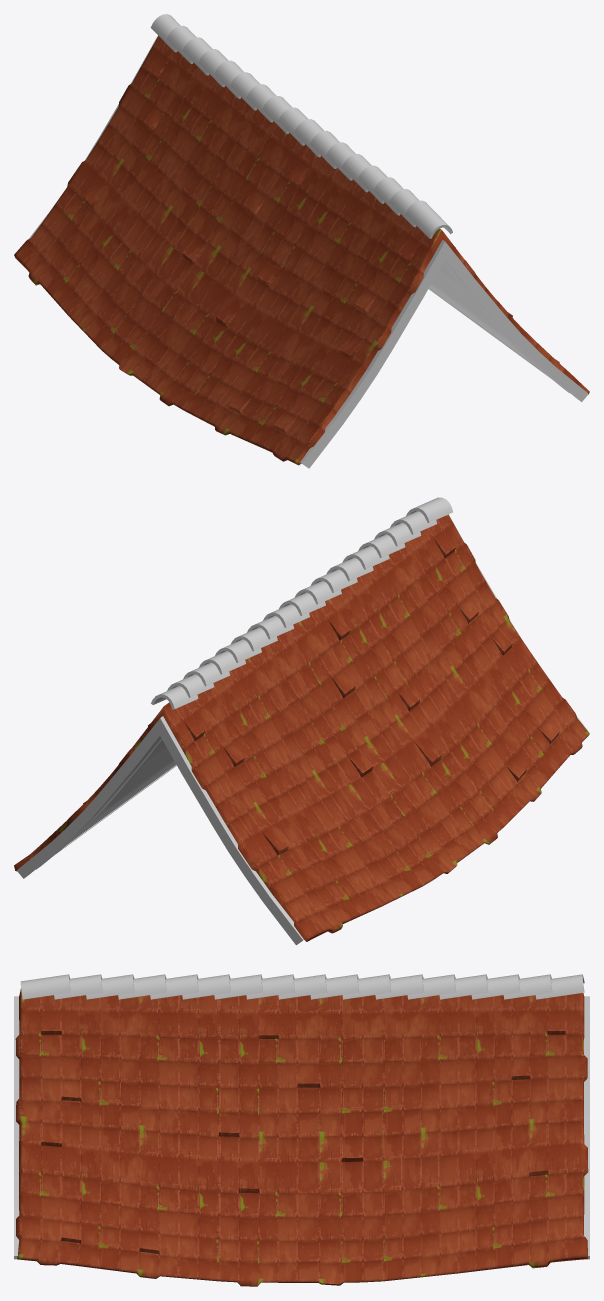
The model's file is Roof_FlatTiles_6x12.fbx.
The picture shows the model from 3 angles, top to bottom: view 1: azimuth 30°, elevation 25°; view 2: azimuth 150°, elevation 25°; view 3: azimuth 270°, elevation 25°; orthographic projection.
Parts seen in each view (by area): view 1: Roof_FlatTiles_6x12; view 2: Roof_FlatTiles_6x12; view 3: Roof_FlatTiles_6x12.
Boxes of the visible parts, x1=… form: Roof_FlatTiles_6x12: x1=14, y1=14, x2=589, y2=468; Roof_FlatTiles_6x12: x1=14, y1=497, x2=589, y2=945; Roof_FlatTiles_6x12: x1=14, y1=974, x2=589, y2=1286.
Size of the model in its own units: 913 by 602 by 1366.
